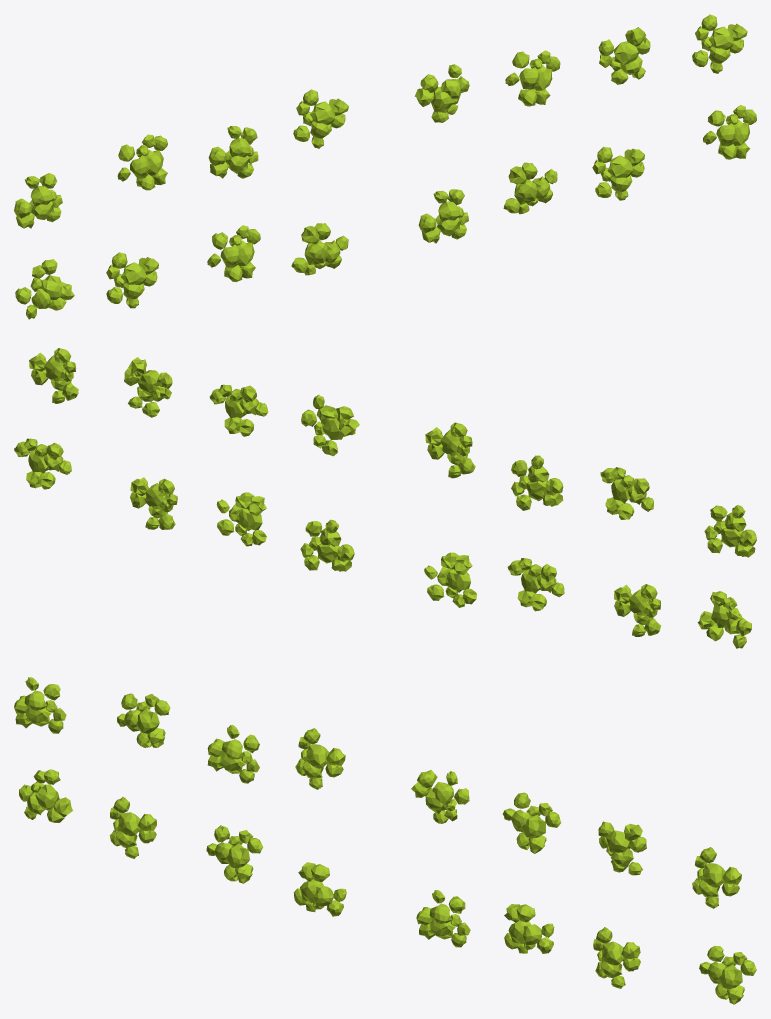
The model's file is leaves2.obj.
3 views of the same model, one above another, from view 1: azimuth 30°, elevation 25°; view 2: azimuth 150°, elevation 25°; view 3: azimuth 330°, elevation 25° (orthographic).
Parts seen in each view (by area): view 1: leaves002; view 2: leaves002; view 3: leaves002.
Part boxes in pixels (x1,y1,x2,y2): leaves002: (14,14,756,319); leaves002: (14,348,756,648); leaves002: (14,677,756,1004).
Size of the model in its own units: 5 by 1.19 by 0.1567.
